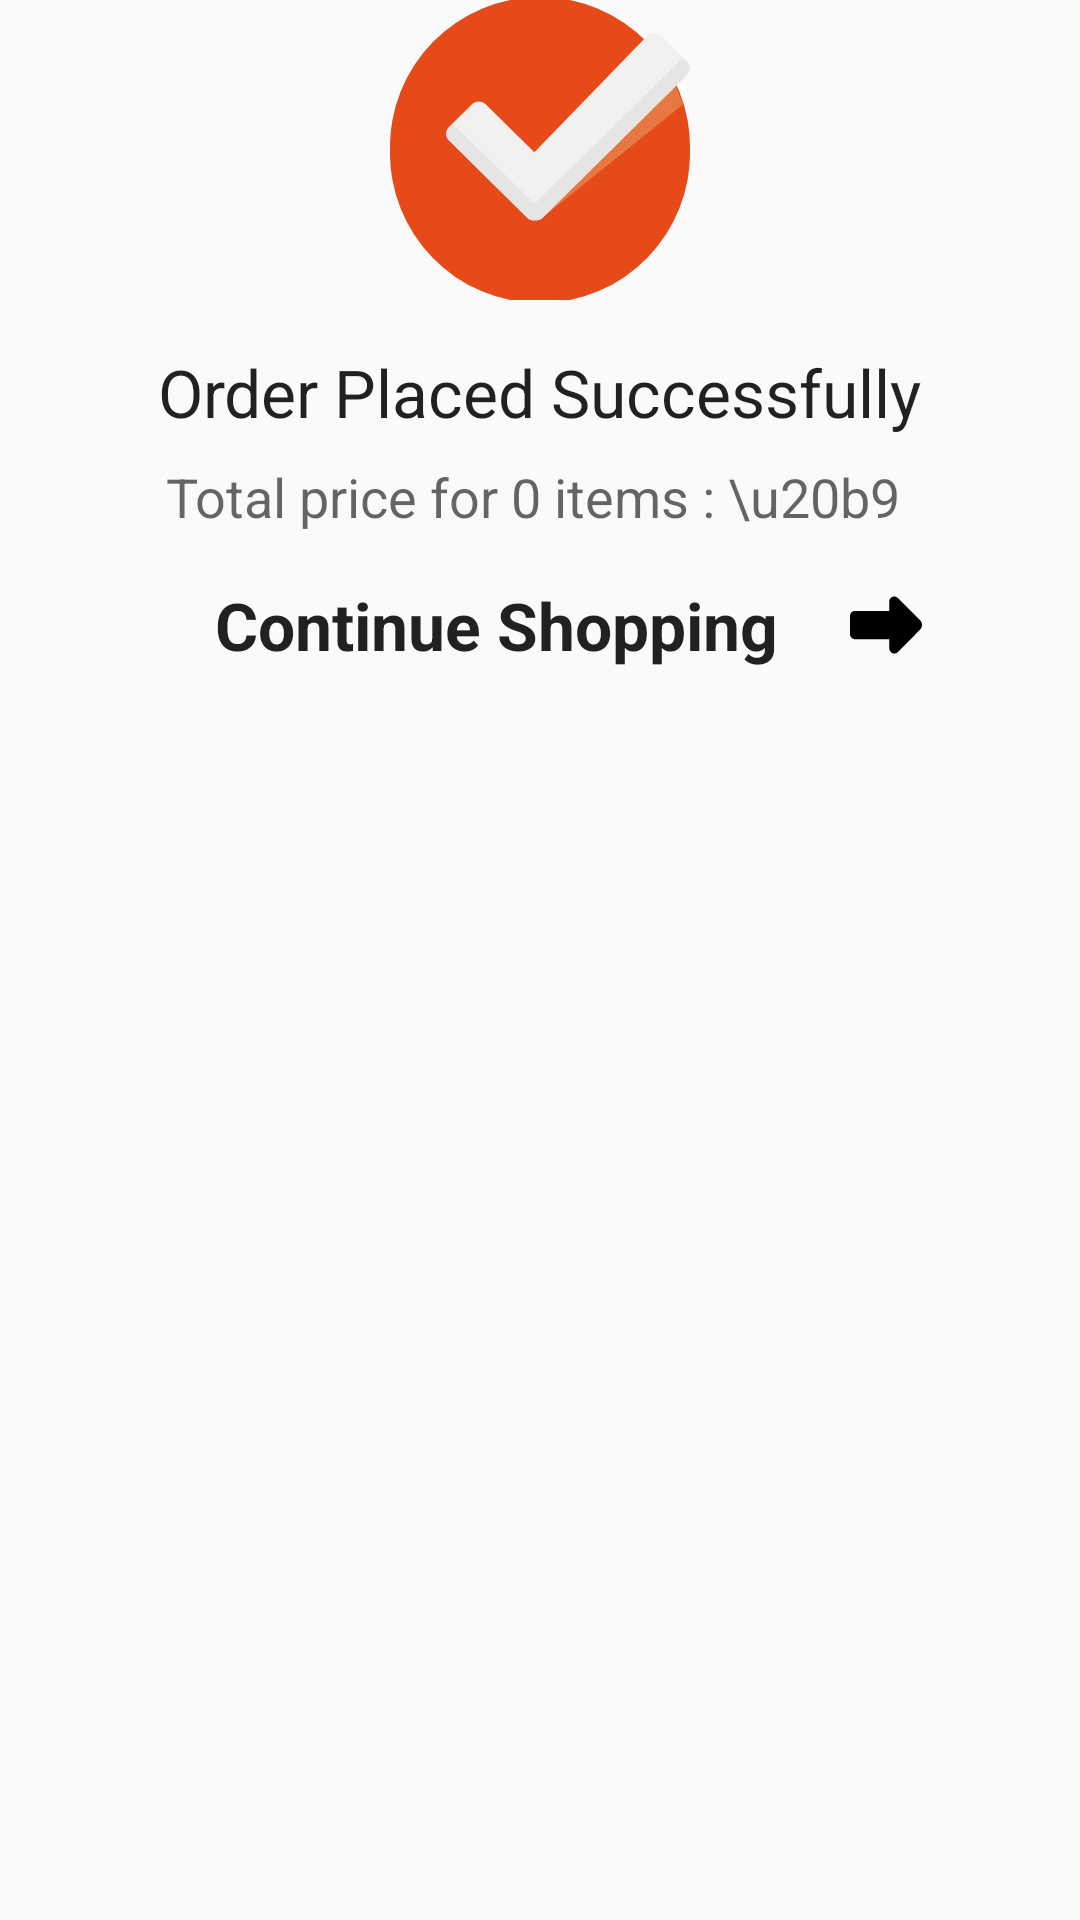

Named icons in this screenshot (1080 × 1920) and their centers, (x=x, y=y):
success tick: (x=540, y=150)
